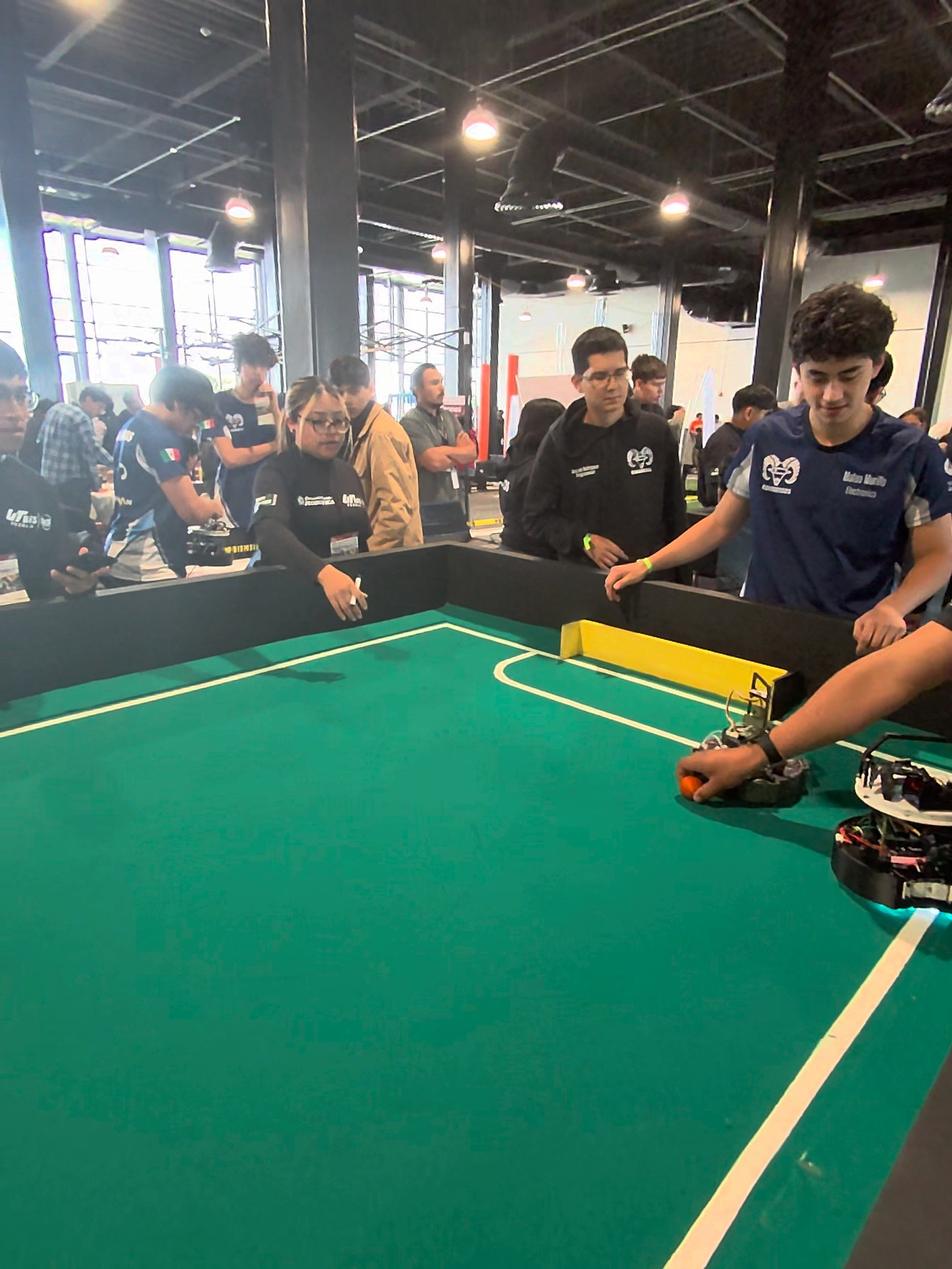Robot: (826, 735, 947, 926), (705, 672, 806, 808)
pelota: (681, 775, 702, 797)
